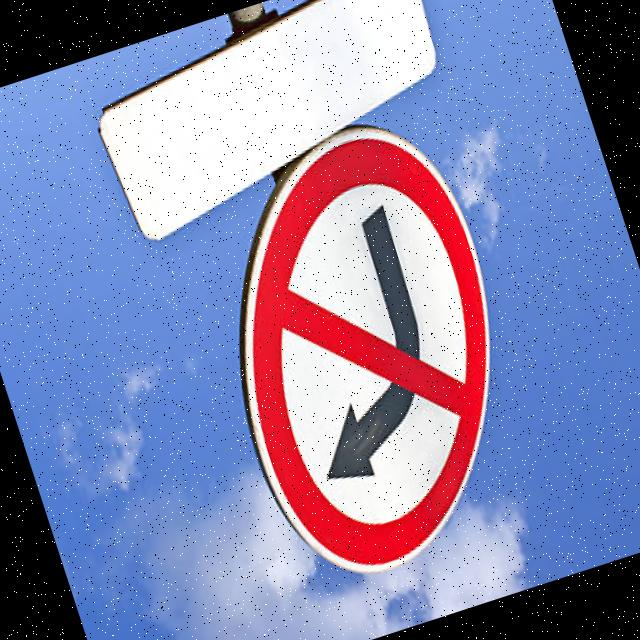do_not_turn_right: (170, 101, 569, 606)
